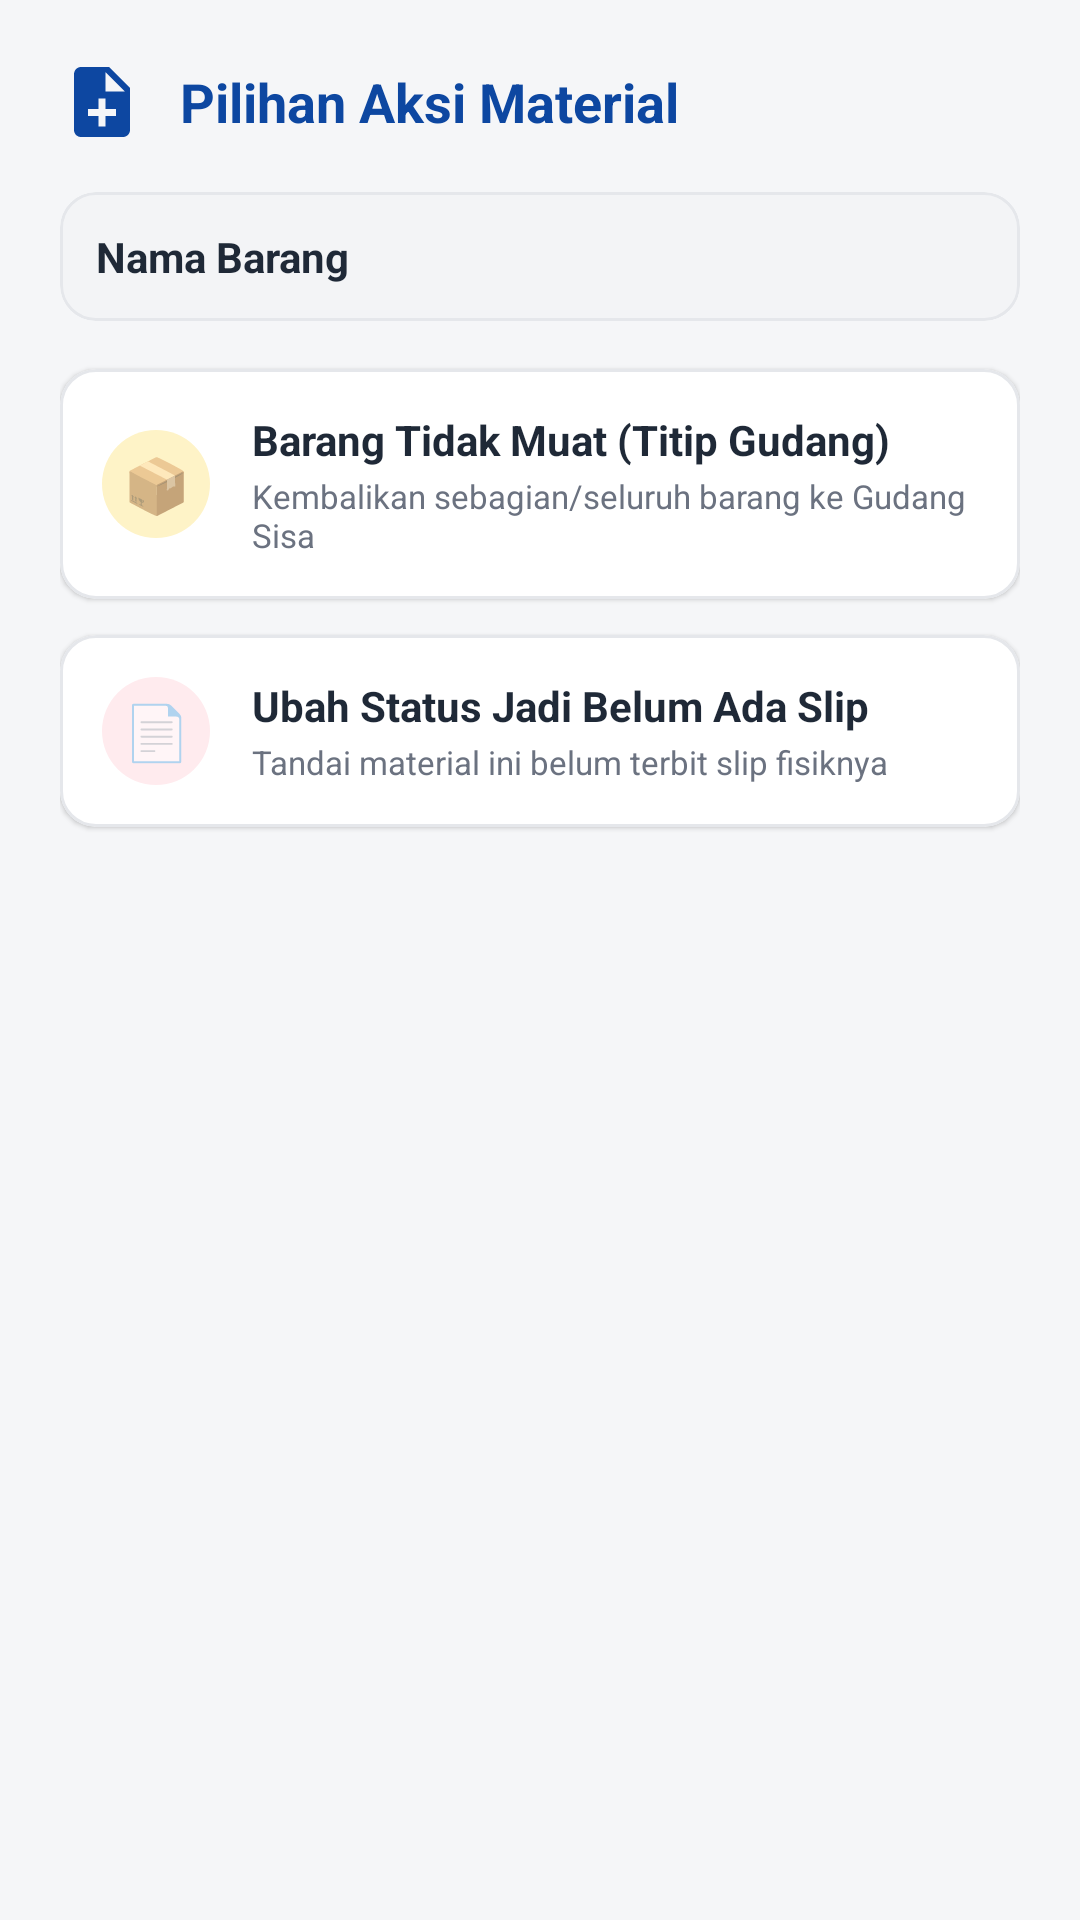

Screen size 1080*1920. Icon name, then its center in pixels as [x,y]:
document add: [102,102]
